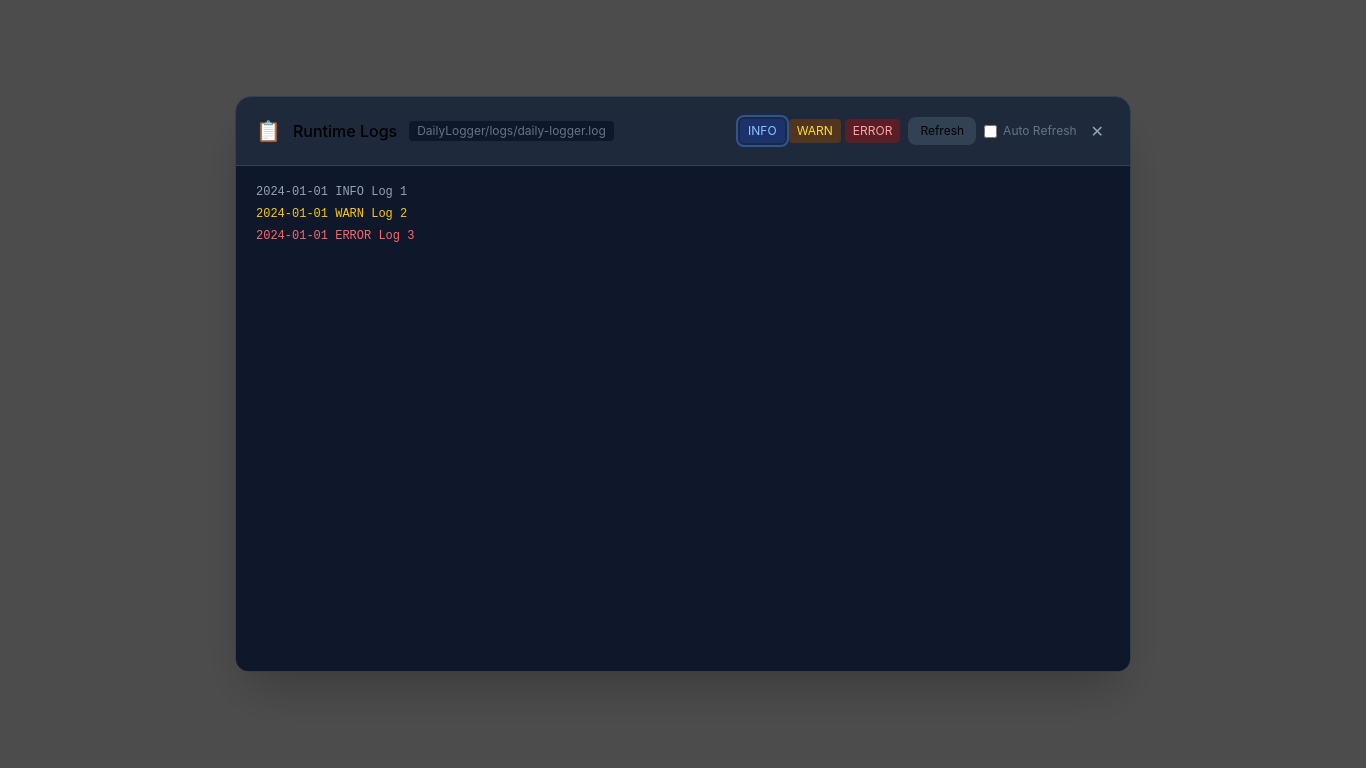
Test: LogViewer › filters logs by active levels
The width and height of the screenshot is (1366, 768).
Disable INFO
Step 1. Click the button "INFO" → point(762, 131), box top-left (740, 119), bottom-right (785, 143)
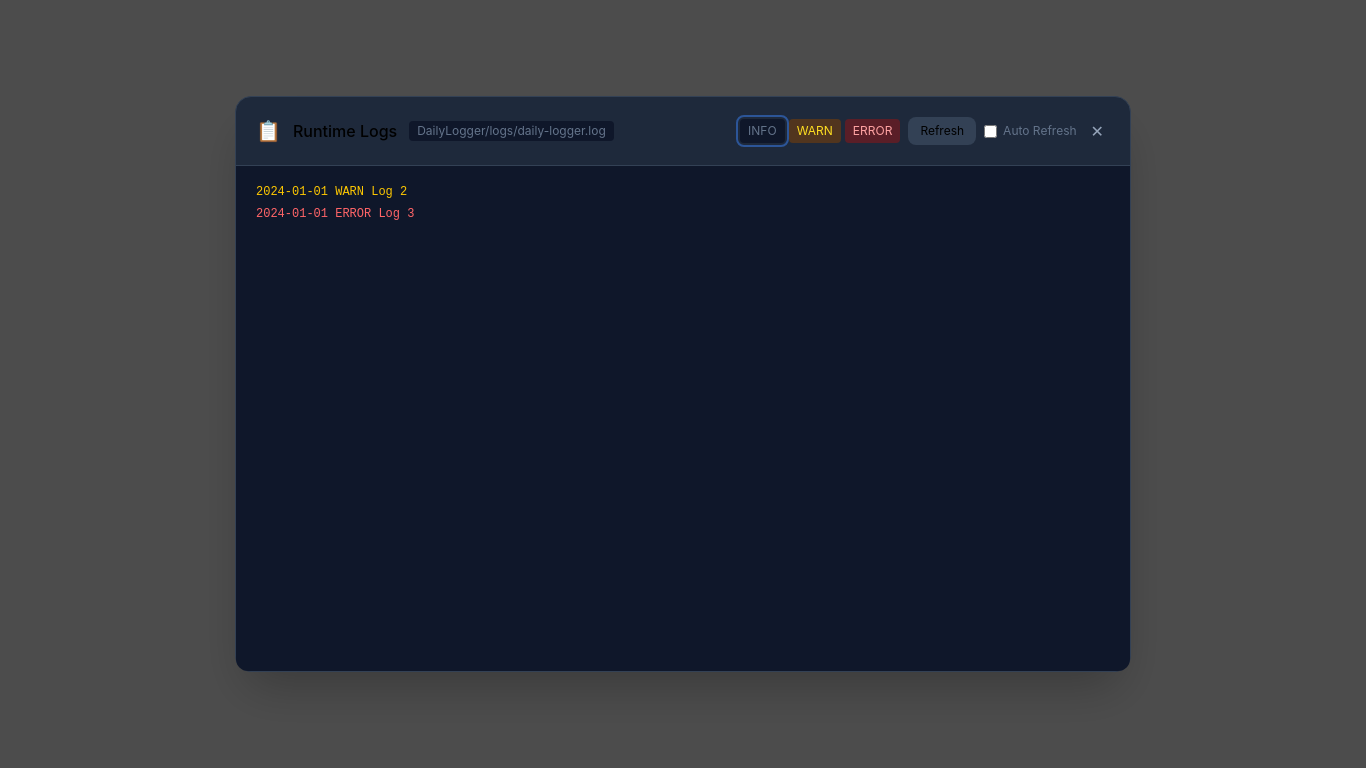
Expected: the text "WARN Log 2" is shown, top-left (256, 185), bottom-right (407, 199)
Now the text "INFO Log 1" is gone
